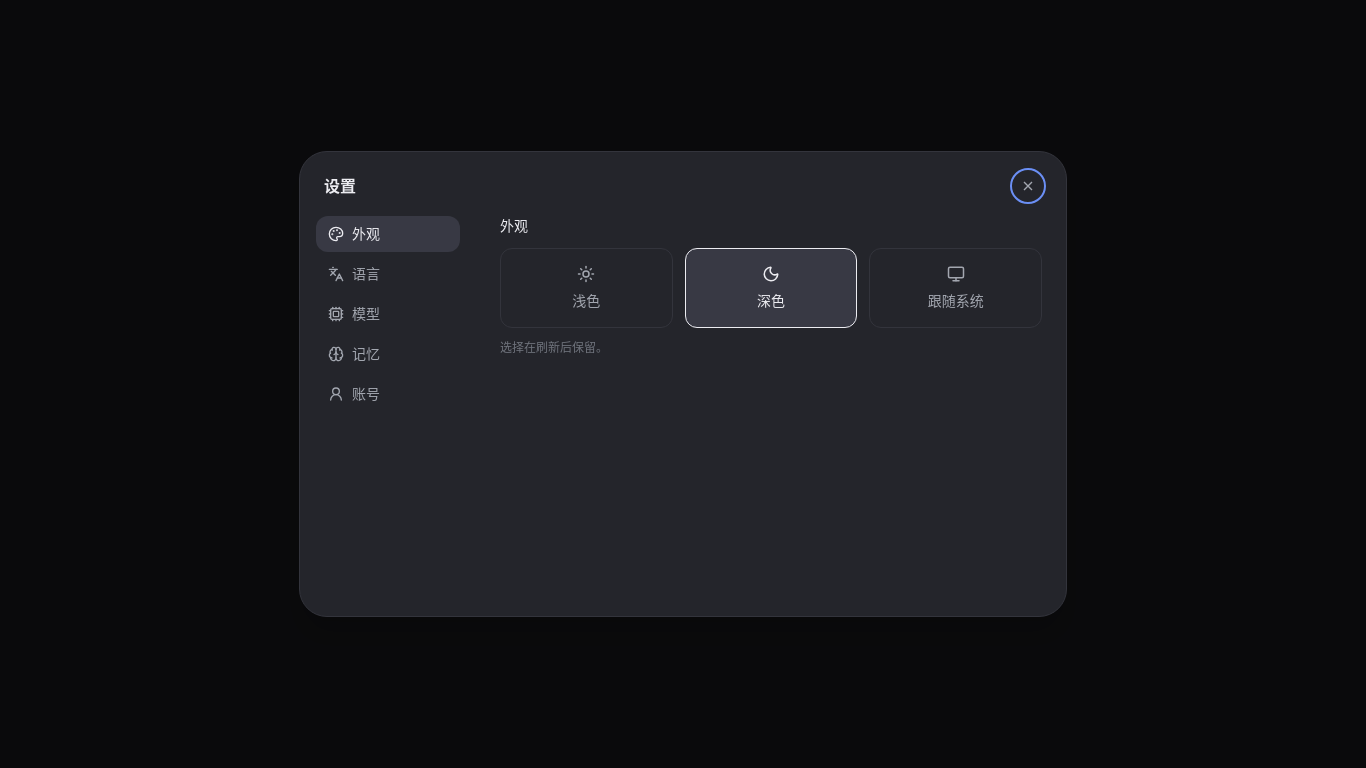
Test: SettingsDialog › lists the administrator views of my sessions (memory-final-plan section 13)
The width and height of the screenshot is (1366, 768).
Step 1. Click the button "账号" → point(388, 394), box [316,376,460,412]
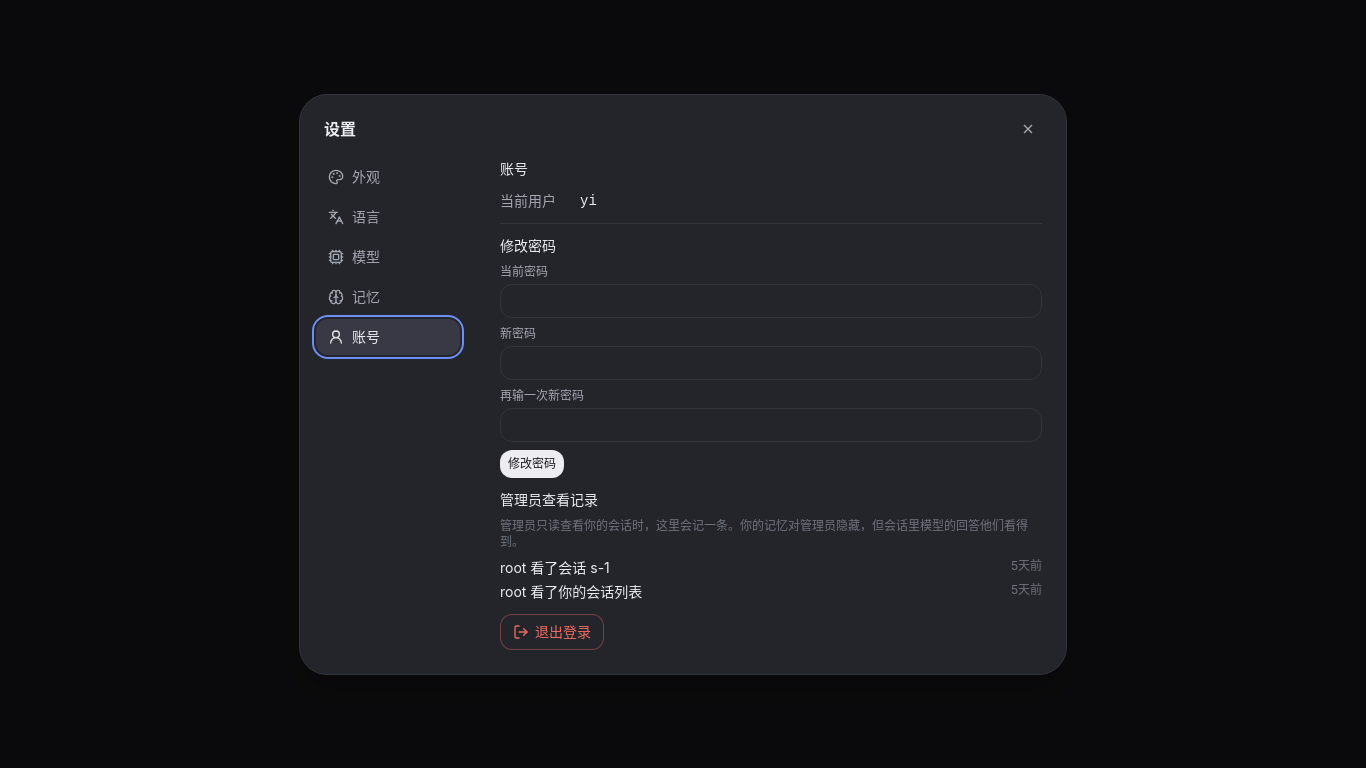
Check: the text "root 看了会话 s-1" is shown, box [500,558,610,578]
Check: the text "root 看了你的会话列表" is shown, box [500,582,642,602]
